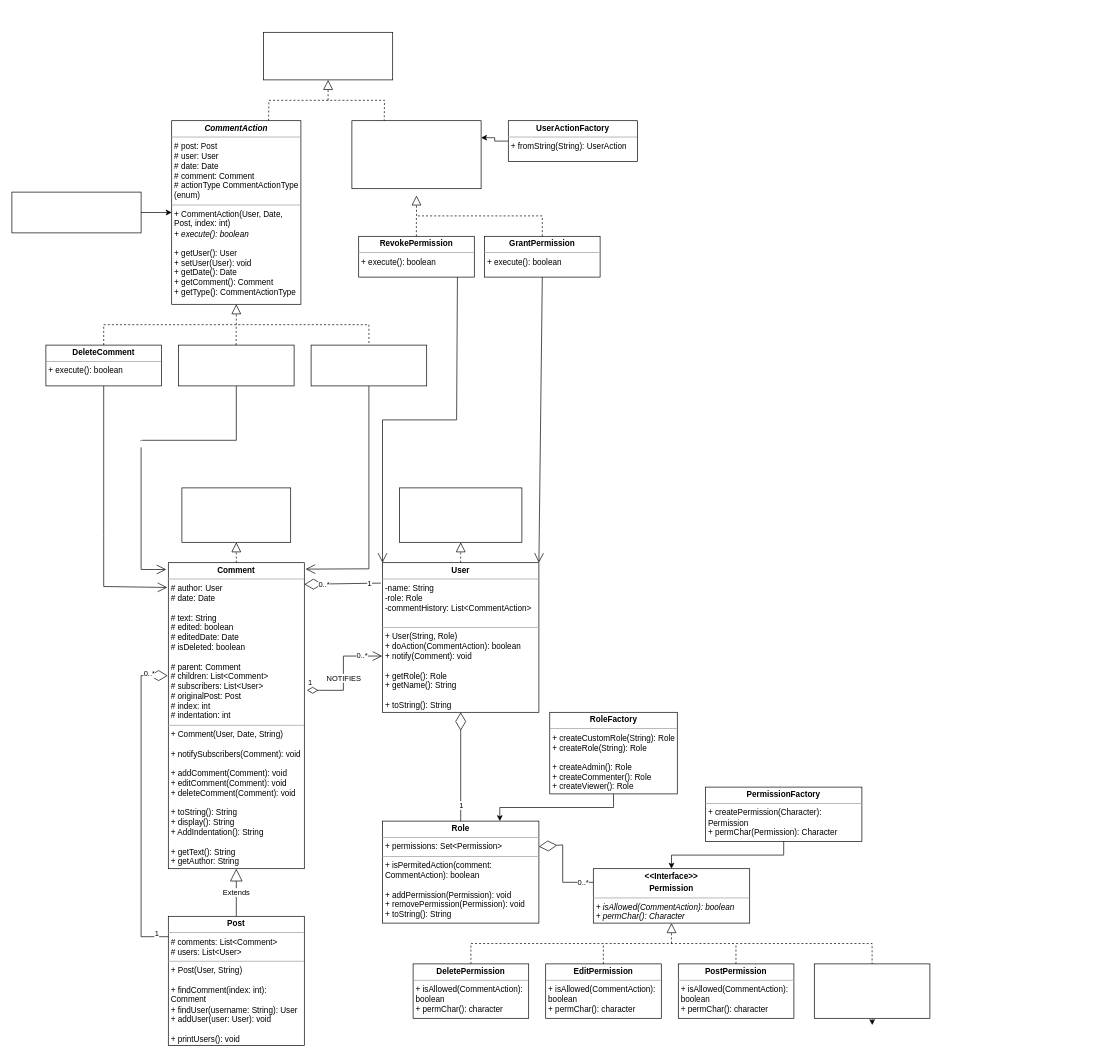
This 1112x1057 diagram has some shape labels left out. Each missing label, with the centre of its shape:
<<Interface>> Command + execute(): boolean: pixel 328 56
<<Interface>> Observer + notify(Comment): void: pixel 236 514
<<Interface>> Subject + notifySubscribers(Comment): void: pixel 460 514
CommentActionFactory + fromString(String): UserAction: pixel 76 212
EditComment + execute(): boolean: pixel 236 365
PostComment + execute(): boolean: pixel 368 365
RetractPermission + isAllowed(CommentAction): boolean + permChar(): character: pixel 872 990
UserAction # user: User # date: Date + execute(): boolean: pixel 416 154
